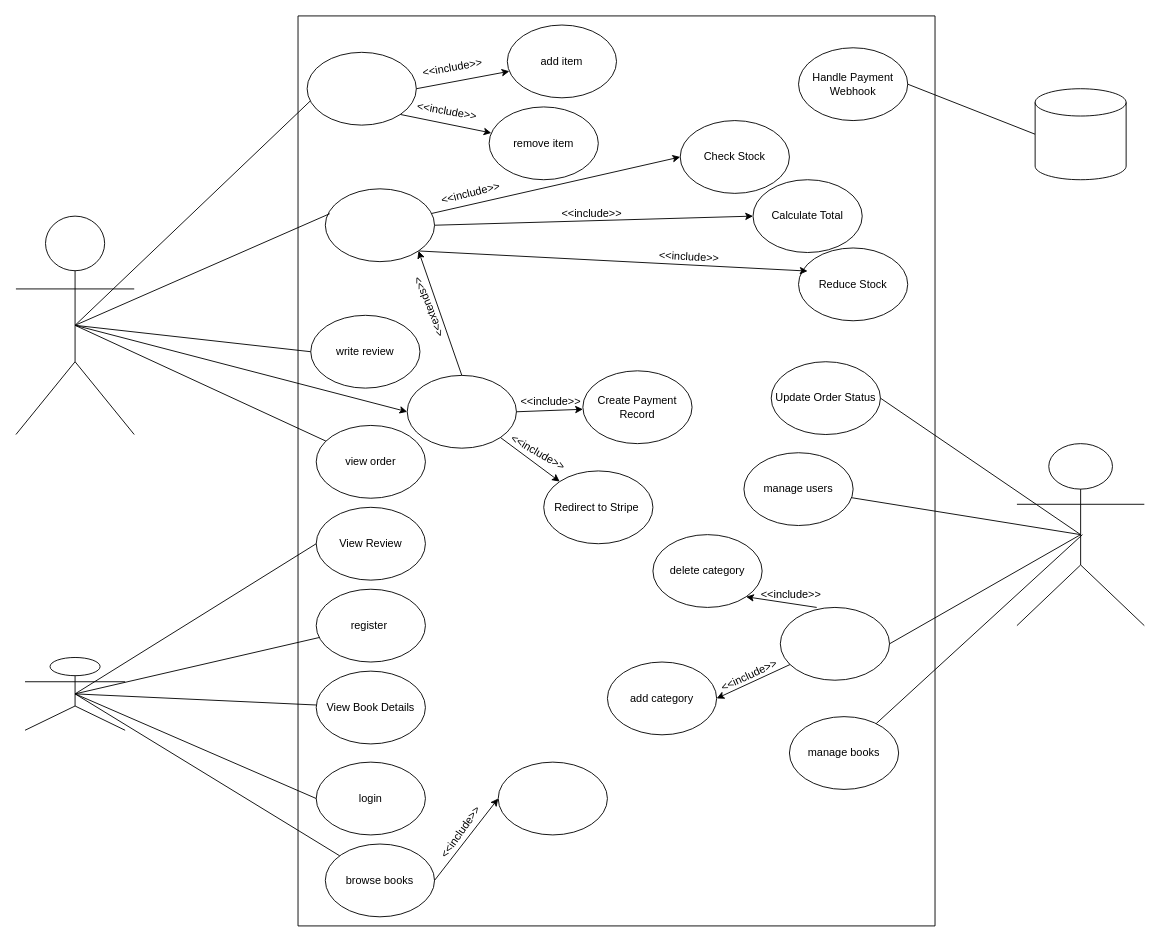
Image size: 1160x942. Some labels were removed from this diagram. The centre of each missing label's shape, as x and y in pixels:
Admin: [1080,534]
checkout: [379,225]
Guest: [74,693]
Make Payment: [461,411]
manage cart: [361,88]
manage category: [834,643]
search by genre: [552,798]
Stripe: [1080,134]
User: [74,325]
